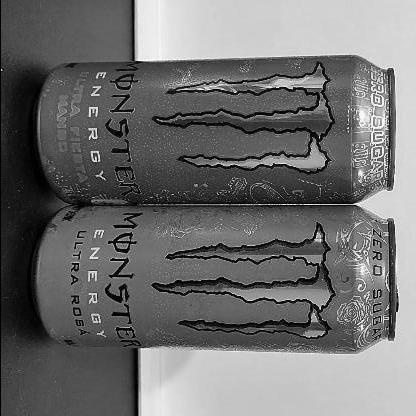alumunium_can: (30, 204, 401, 364), (28, 52, 400, 209)
